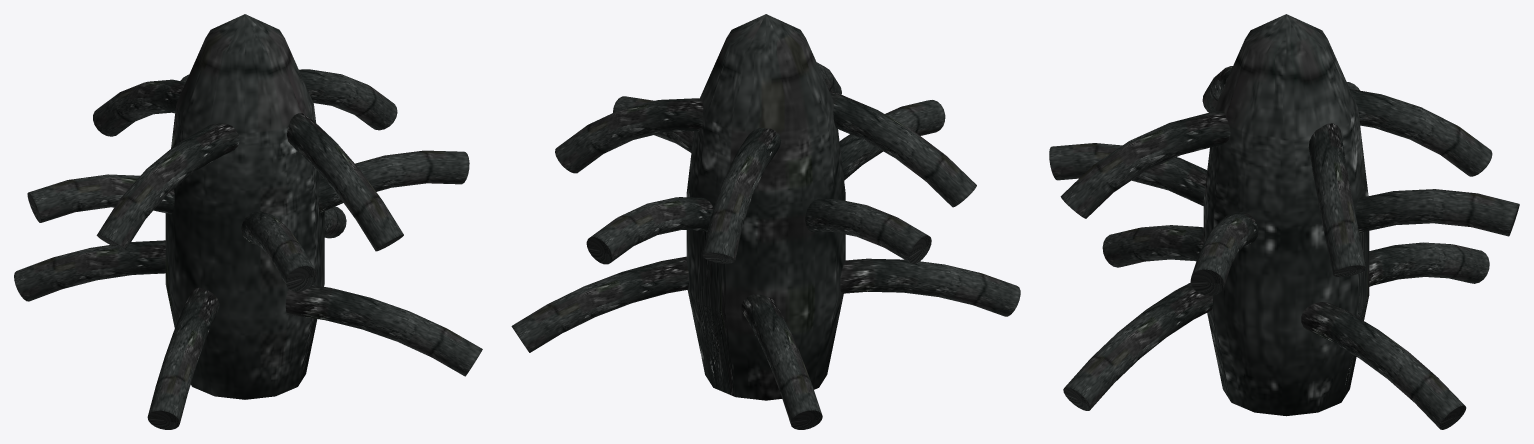
The model's file is EnvBushDead.fbx.
The picture shows the model from 3 angles, left to right: view 1: azimuth 30°, elevation 25°; view 2: azimuth 150°, elevation 25°; view 3: azimuth 270°, elevation 25°; orthographic projection. The views are drawn at different scales.
Visible parts, largest first — view 1: Base, Branch002, Branch003, Branch004, Branch001; view 2: Base, Branch001, Branch003, Branch004, Branch002; view 3: Base, Branch001, Branch002, Branch004, Branch003.
Boxes of the visible parts, x1,y1,x2,y2 form: Base: [165, 14, 324, 399]; Branch002: [285, 113, 482, 376]; Branch003: [96, 123, 316, 429]; Branch004: [14, 79, 185, 301]; Branch001: [180, 69, 397, 238]; Base: [686, 14, 845, 400]; Branch001: [511, 98, 713, 352]; Branch003: [829, 91, 1020, 316]; Branch004: [702, 128, 931, 429]; Branch002: [613, 62, 841, 152]; Base: [1203, 14, 1369, 416]; Branch001: [1301, 123, 1519, 429]; Branch002: [1060, 111, 1258, 410]; Branch004: [1347, 82, 1492, 286]; Branch003: [1049, 66, 1232, 267].
Bounding box in the file's own units: 64.7 × 60 × 68.19.
Materials: 1 (1 with a texture image).
